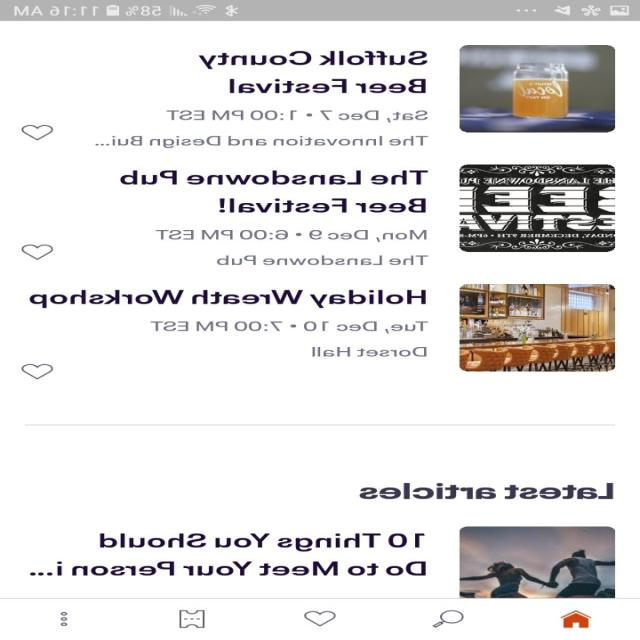Icon: (22, 243, 55, 260), (22, 124, 54, 141), (433, 610, 464, 627), (304, 610, 336, 626), (22, 363, 54, 379), (561, 610, 591, 627), (180, 609, 206, 628), (60, 611, 68, 626)
Image: (458, 283, 616, 372), (458, 164, 616, 252), (460, 44, 616, 133), (459, 526, 616, 598)
Text: (30, 532, 426, 576), (120, 170, 428, 213), (198, 51, 428, 93), (30, 289, 428, 308), (95, 135, 429, 148), (359, 482, 614, 499), (150, 321, 428, 334), (156, 230, 428, 242), (166, 110, 428, 122), (216, 255, 430, 266), (312, 347, 428, 357)
